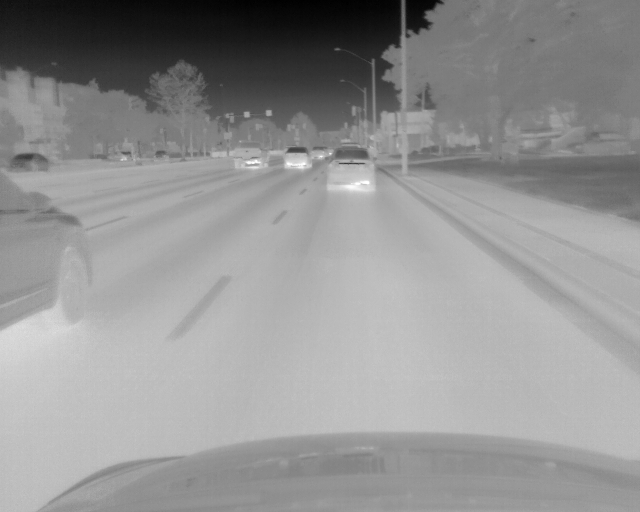car: (1, 164, 93, 331), (324, 145, 375, 193), (233, 139, 269, 170), (4, 153, 49, 173), (284, 146, 313, 171), (312, 146, 325, 161), (152, 150, 168, 162)
